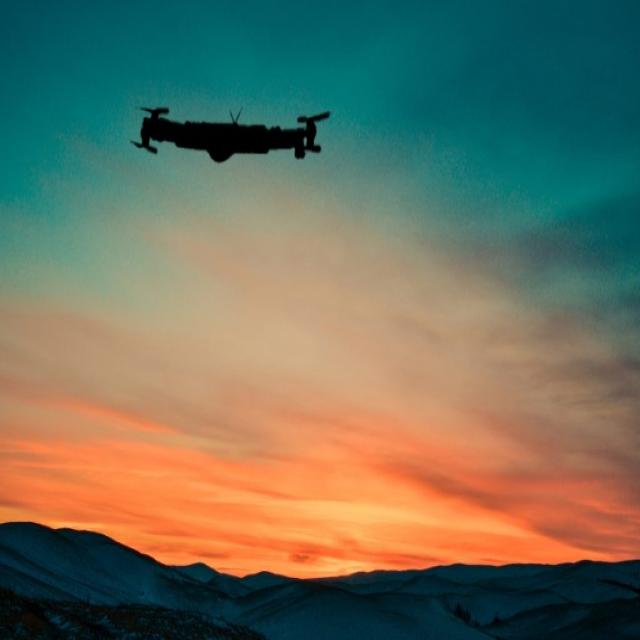drone: (130, 103, 332, 163)
